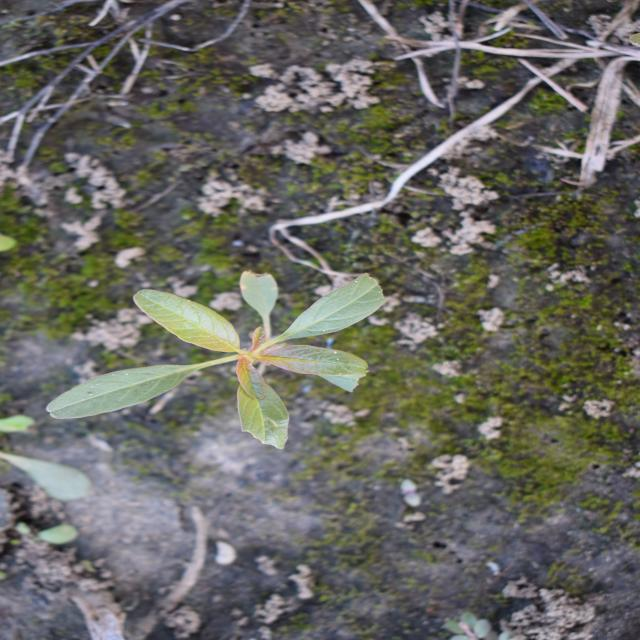Waterhemp: (43, 269, 391, 452)
